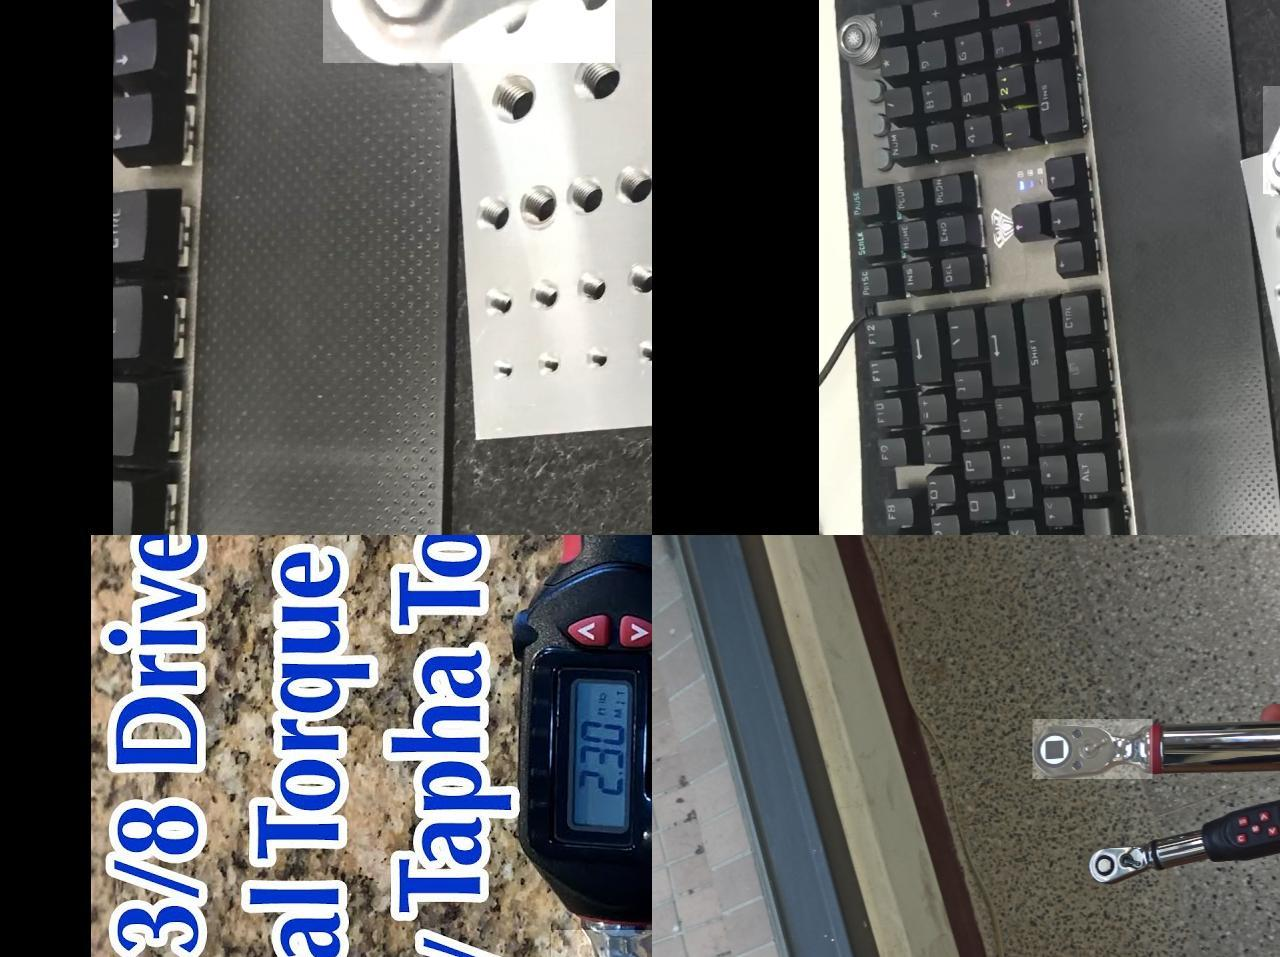Tool: (320, 0, 616, 61), (1034, 719, 1153, 778), (1088, 843, 1150, 885), (1262, 91, 1280, 191)
hole: (482, 64, 541, 129), (575, 61, 620, 111), (518, 181, 559, 231), (565, 173, 608, 220), (469, 198, 517, 240), (614, 161, 654, 209), (573, 269, 611, 308), (475, 286, 515, 320), (530, 274, 563, 313), (626, 261, 651, 296), (485, 357, 513, 380), (538, 353, 562, 378), (588, 348, 611, 372), (641, 338, 656, 369)
